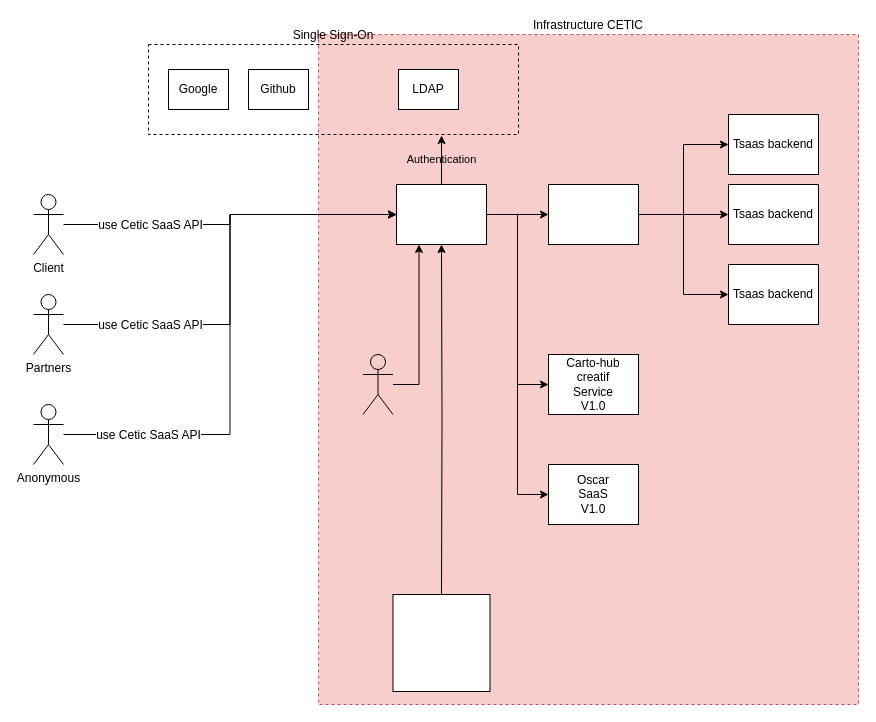
This 876x722 diagram has some shape labels left out. Here are the shapes that lost their labels. From the top down, the centre of each, then its label:
point 441,214: API Management
point 593,214: Tsaas Service V1.0
point 377,384: View statistics Define business model
point 441,643: Internal Application (e.g. GUI tsars, Fadi projects,...)
